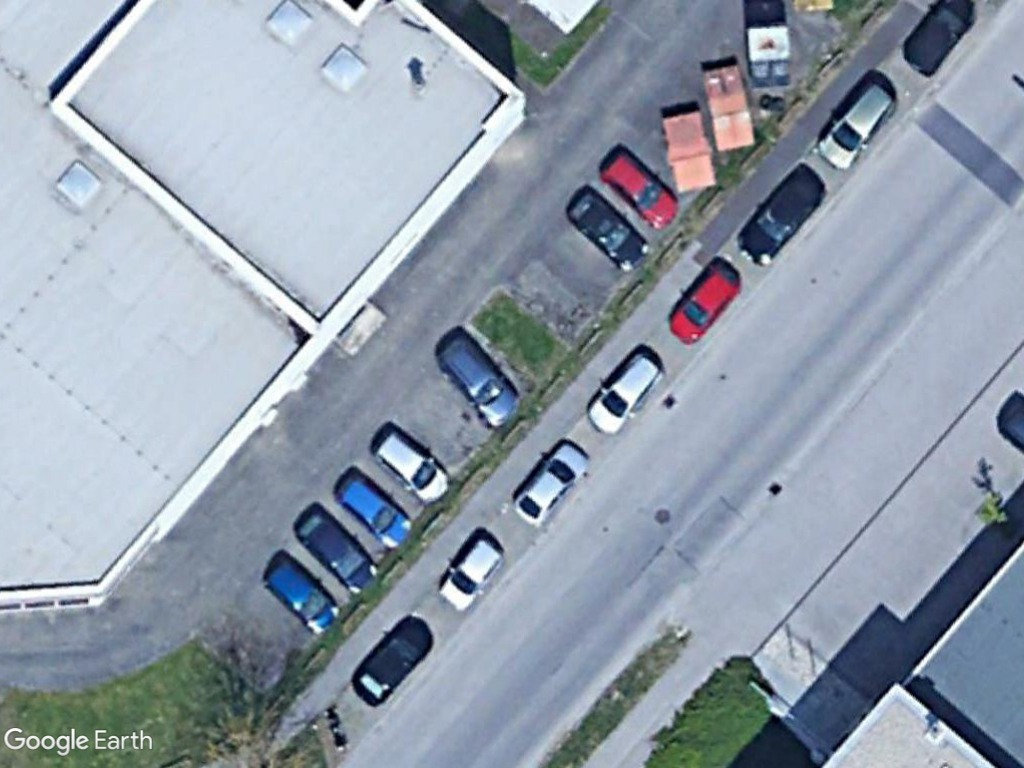car: (732, 160, 832, 265), (812, 78, 906, 174), (435, 336, 526, 430), (348, 613, 436, 707), (291, 509, 380, 599), (507, 439, 592, 529), (332, 468, 416, 556), (585, 348, 668, 437), (661, 258, 740, 351), (597, 148, 682, 232), (366, 428, 453, 508), (567, 190, 650, 273), (261, 558, 342, 633), (433, 534, 505, 615)
